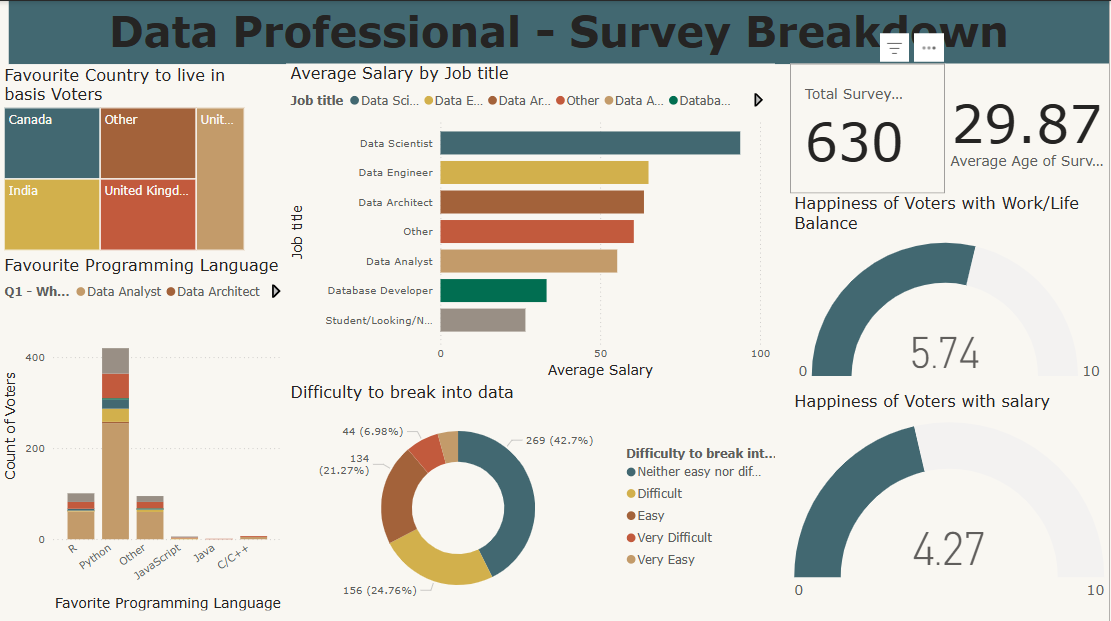

The dashboard page shown, as its layout file describes it:
{"tool":"powerbi","page":{"name":"Page 1","canvas":[1280,720],"ordinal":0},"visuals":[{"type":"textbox","box":[10,0,1270,72.5],"z":0},{"type":"cardVisual","fields":{"Data":["CountNonNull(Data Professional Survey.Unique ID)"]},"box":[911.8,72.1,178.9,150],"z":1000},{"type":"card","fields":{"Values":["Avg(Data Professional Survey.Q10 - Current Age)"]},"box":[1090.7,72.1,189,150],"z":2000},{"type":"barChart","title":"Average Salary by Job title","fields":{"Category":["Data Professional Survey.Q1 - Which Title Best Fits your Current Role?.1"],"Y":["Avg(Data Professional Survey.Average Salary)"],"Series":["Data Professional Survey.Q1 - Which Title Best Fits your Current Role?.1"]},"box":[330.4,72.1,564.1,367.9],"z":3000},{"type":"columnChart","title":"Favourite Programming Language","fields":{"Category":["Data Professional Survey.Q5 - Favorite Programming Language.1"],"Y":["CountNonNull(Data Professional Survey.Unique ID)"],"Series":["Data Professional Survey.Q1 - Which Title Best Fits your Current Role?.1"]},"box":[0,292.9,330.4,415.5],"z":3001},{"type":"treemap","title":"Favourite Country to live in basis Voters","fields":{"Group":["Data Professional Survey.Q11 - Which Country do you live in?.1"],"Values":["Count(Data Professional Survey.Q11 - Which Country do you live in?.1)"]},"box":[0,73.6,287.1,219.3],"z":3002},{"type":"gauge","title":"Happiness of Voters with Work/Life Balance","fields":{"Y":["Avg(Data Professional Survey.Q6 - How Happy are you in your Current Position with the following? (Work/Life Balance))"],"MinValue":["Min(Data Professional Survey.Q6 - How Happy are you in your Current Position with the following? (Work/Life Balance))1"],"MaxValue":["Max(Data Professional Survey.Q6 - How Happy are you in your Current Position with the following? (Work/Life Balance))2"]},"box":[911.8,222.2,367.9,228],"z":3003},{"type":"gauge","title":"Happiness of Voters with salary","fields":{"Y":["Avg(Data Professional Survey.Q6 - How Happy are you in your Current Position with the following? (Salary))"],"MinValue":["Min(Data Professional Survey.Q6 - How Happy are you in your Current Position with the following? (Salary))"],"MaxValue":["Max(Data Professional Survey.Q6 - How Happy are you in your Current Position with the following? (Salary))1"]},"box":[911.8,450.1,367.9,258.3],"z":3004},{"type":"donutChart","title":"Difficulty to break into data","fields":{"Category":["Data Professional Survey.Q7 - How difficult was it for you to break into Data?"],"Y":["CountNonNull(Data Professional Survey.Q7 - How difficult was it for you to break into Data?)"]},"box":[330.4,440,564.1,268.4],"z":3005}]}

Visuals, with their boxes in screenshot pixels (x1, y1, x2, y2), scaled from the page's 1280x720 canvas onto the 1111x621 screenshot:
textbox: (9,0,1110,63)
cardVisual - CountNonNull(Data Professional Survey.Unique ID): (791,62,947,192)
card - Avg(Data Professional Survey.Q10 - Current Age): (947,62,1110,192)
"Average Salary by Job title" barChart: (287,62,776,380)
"Favourite Programming Language" columnChart: (0,253,287,611)
"Favourite Country to live in basis Voters" treemap: (0,63,249,253)
"Happiness of Voters with Work/Life Balance" gauge: (791,192,1110,388)
"Happiness of Voters with salary" gauge: (791,388,1110,611)
"Difficulty to break into data" donutChart: (287,380,776,611)
